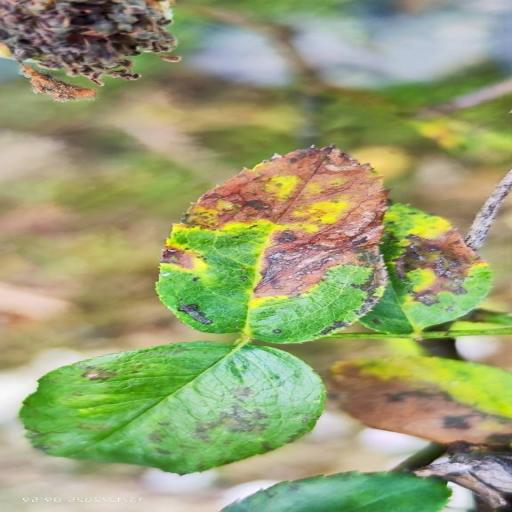healthy_leaf: (220, 472, 450, 512)
thrip: (156, 146, 387, 343), (20, 342, 324, 474), (361, 203, 491, 334), (329, 356, 511, 445), (0, 0, 175, 86), (25, 66, 92, 100)
